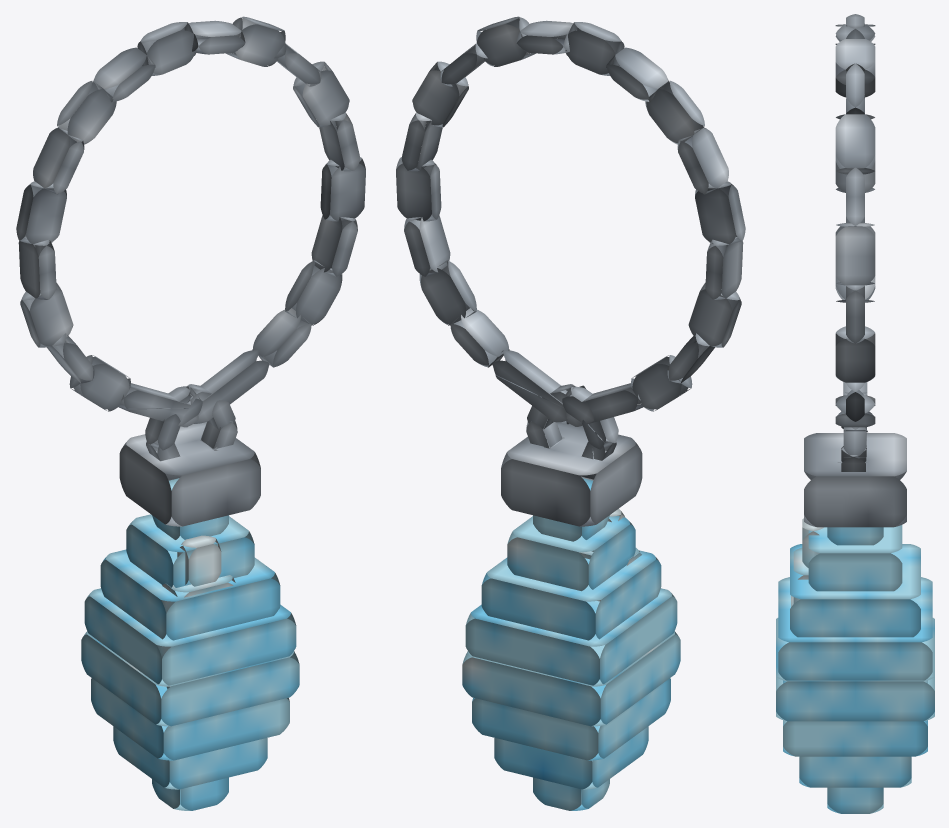
Rendered from frozen_tear.obj.
3 views of the same model, side by side, from view 1: azimuth 30°, elevation 25°; view 2: azimuth 150°, elevation 25°; view 3: azimuth 270°, elevation 25° (orthographic).
Visible parts, largest first — view 1: lit, fire; view 2: lit, fire; view 3: fire, lit.
Part boxes in pixels (x1,y1,x2,y2): lit: (16,16,365,526); fire: (81,478,299,810); lit: (396,16,745,526); fire: (462,478,680,810); fire: (776,518,934,813); lit: (804,14,906,527).
Bounding box in the file's own units: 0.526 × 1.14 × 0.2125.
